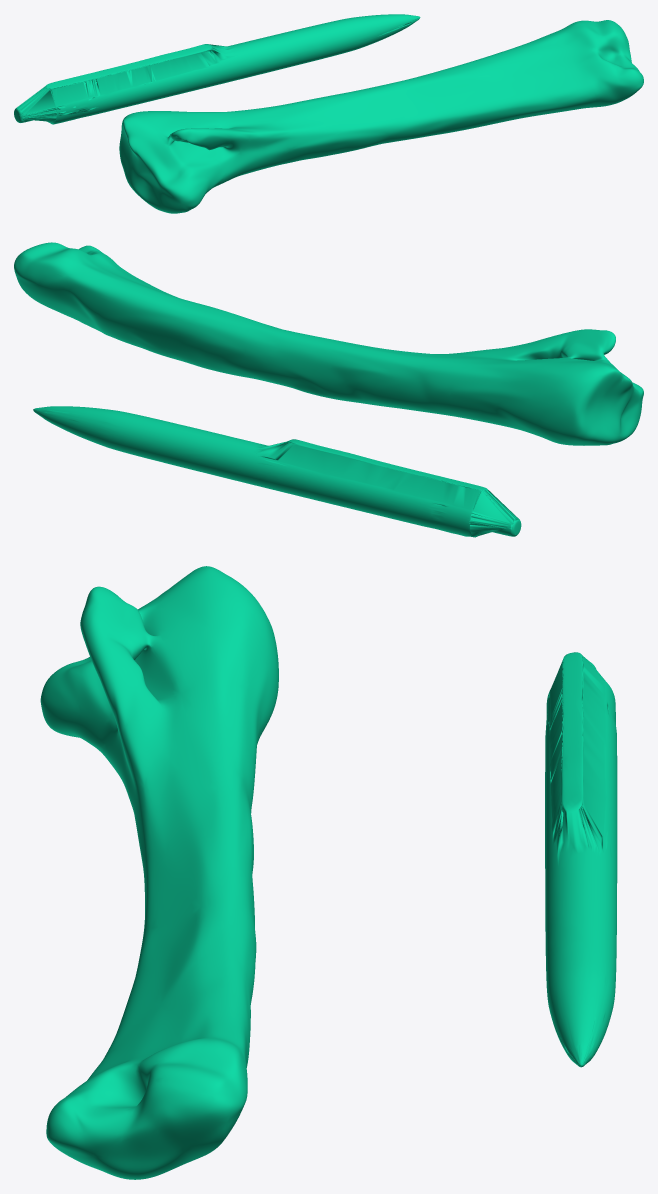
Rendered from bone.glb.
3 views of the same model, one above another, from view 1: azimuth 30°, elevation 25°; view 2: azimuth 150°, elevation 25°; view 3: azimuth 270°, elevation 25° (orthographic). The views are drawn at different scales.
Parts seen in each view (by area): view 1: default, default.001; view 2: default, default.001; view 3: default, default.001.
Part boxes in pixels (left/top/right/bottom): default: left=119, top=20, right=643, bottom=213; default.001: left=14, top=14, right=420, bottom=124; default: left=14, top=242, right=643, bottom=445; default.001: left=33, top=406, right=521, bottom=537; default: left=40, top=566, right=278, bottom=1179; default.001: left=545, top=652, right=617, bottom=1067.
Bounding box in the file's own units: 3.4 × 0.5471 × 1.66.
